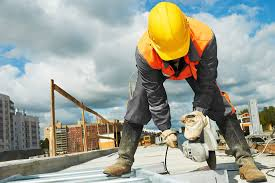helmet: (149, 3, 190, 55)
vest: (151, 60, 200, 82)
